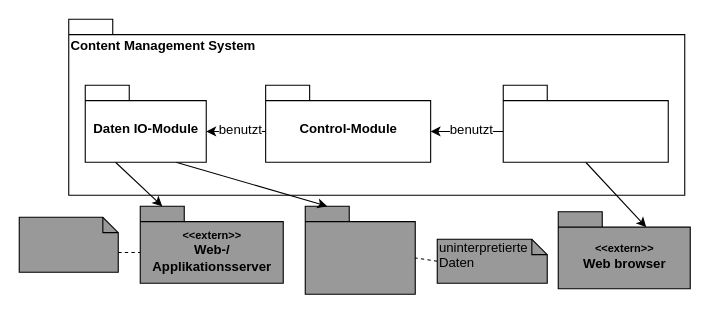
The diagram is 710 pixels wide and 314 high, and some of its shapes have lost their labels. The centre of each missing label's shape, as x and y in pixels:
"4 Konfigurat-ionsdaten" goes at point 68,244.
"<<extern>> Feldgerät- Client/Server" goes at point 359,249.
"Applikation Presenter- Module" goes at point 585,123.
